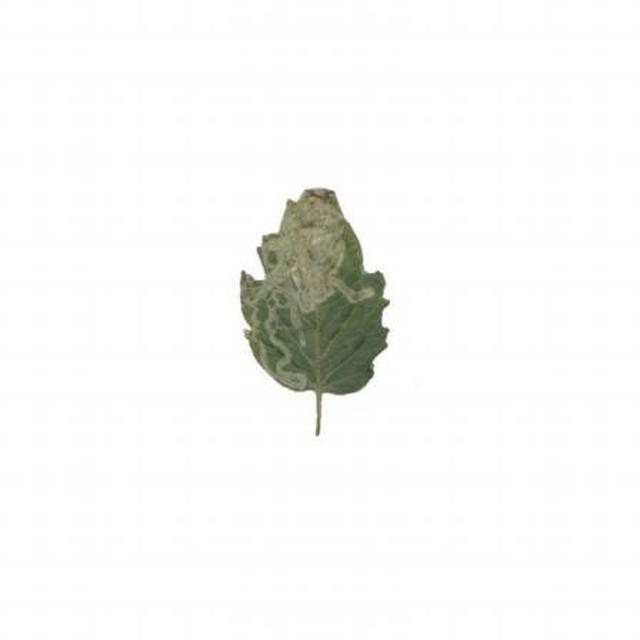Leaf Miner: (336, 265, 560, 565)
